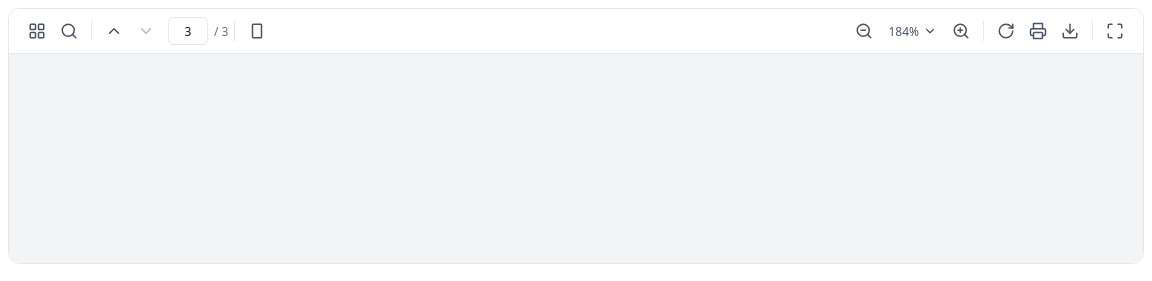
PdfViewer › search panel › closes on Escape
Expected: the element with class "rpp-toolbar" is shown, [9,9,1143,54]
Click the button named "Search" at (69, 31), box [53,15,85,47]
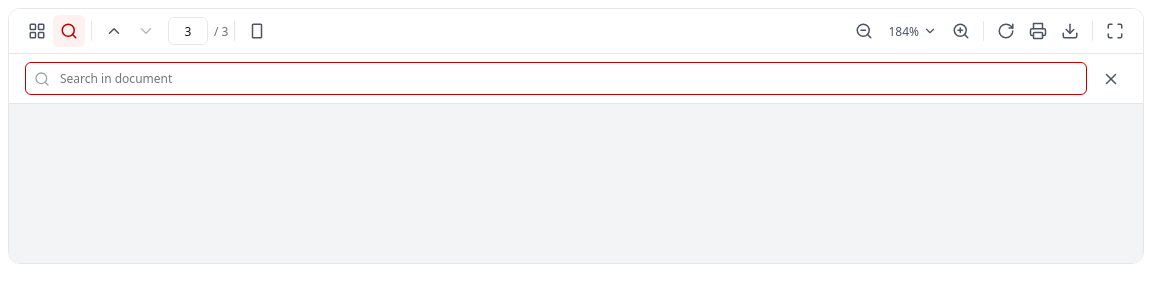
Press Escape
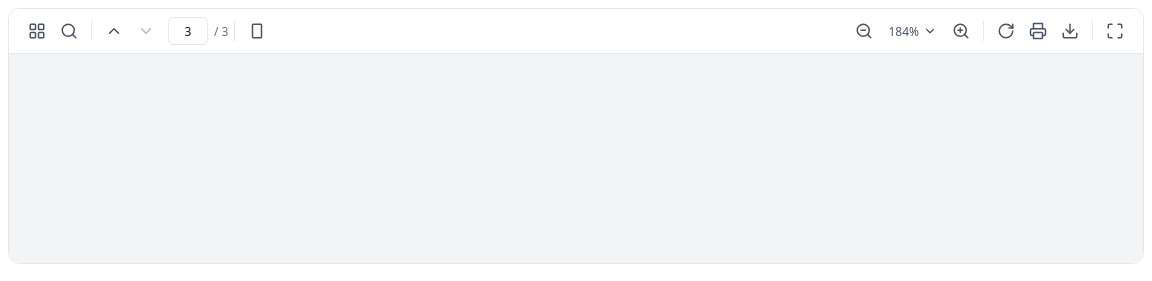
Expected: the element with class "rpp-search-panel" is gone
